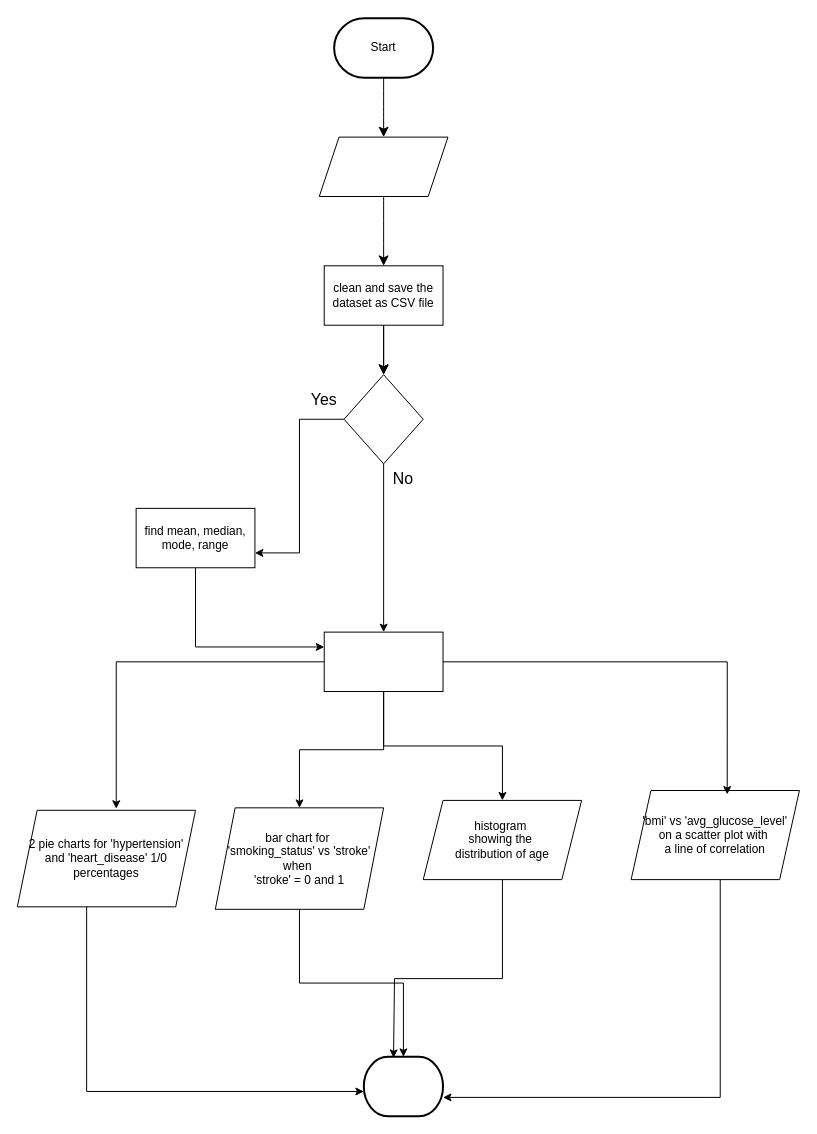
Some shapes in this 817 by 1134 pixel diagram are drawn without their labels. The centre of each missing label's shape, as x and y in pixels:
End: point 403,1086
Extract and open the raw dataset: point 383,166
Find number of stroke=1 in all columns: point 383,661
Is column numeric?: point 383,419
